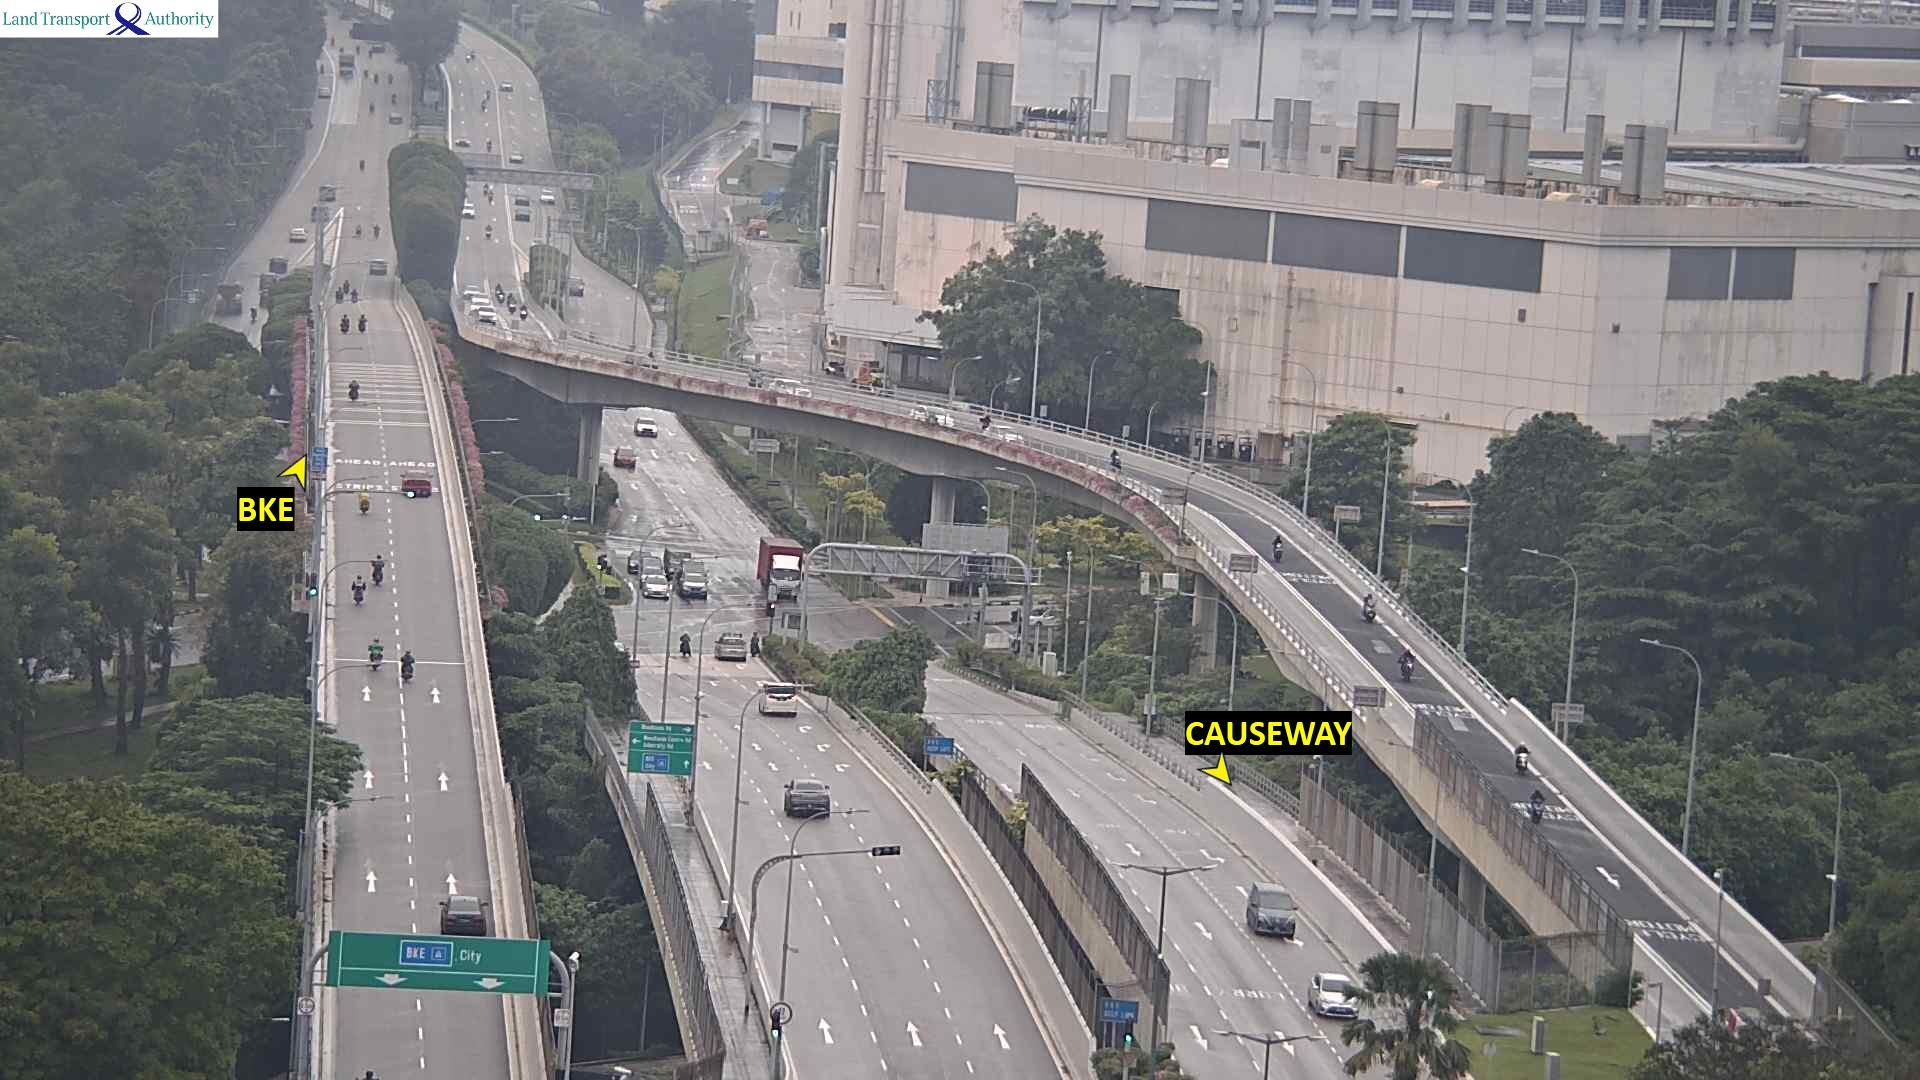vehicle-causeway-johor: (1240, 882, 1305, 937), (1311, 973, 1368, 1021), (760, 537, 801, 592), (981, 414, 1024, 446), (768, 378, 811, 401), (1529, 788, 1543, 824), (1510, 748, 1526, 778), (636, 418, 659, 438), (615, 447, 634, 471), (1363, 591, 1375, 620), (924, 407, 944, 423), (476, 307, 496, 322), (1399, 650, 1410, 676), (1273, 535, 1284, 560), (1104, 452, 1117, 472), (462, 203, 475, 215), (495, 283, 504, 300), (461, 287, 472, 299), (508, 296, 516, 311), (521, 304, 528, 318), (485, 225, 492, 238)
vehicle-causeway-singapore: (787, 784, 845, 822), (439, 899, 488, 935), (753, 685, 799, 719), (715, 637, 757, 663), (403, 478, 432, 498), (404, 648, 421, 672), (371, 635, 383, 667), (355, 577, 368, 599), (359, 489, 370, 512), (374, 557, 383, 582), (370, 260, 387, 273), (350, 379, 360, 400), (344, 314, 355, 333), (679, 637, 686, 659), (374, 223, 382, 240), (361, 313, 367, 332), (343, 277, 350, 293), (353, 290, 358, 304), (337, 287, 342, 300)
